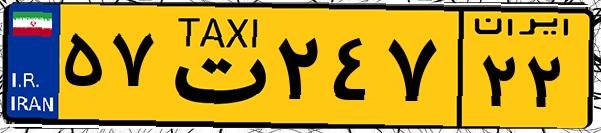2: (270, 28, 330, 110), (475, 38, 525, 113), (525, 38, 570, 115)
4: (330, 28, 385, 110)
5: (57, 26, 110, 100)
7: (385, 28, 445, 110), (110, 28, 158, 98)
ت: (158, 12, 270, 120)
